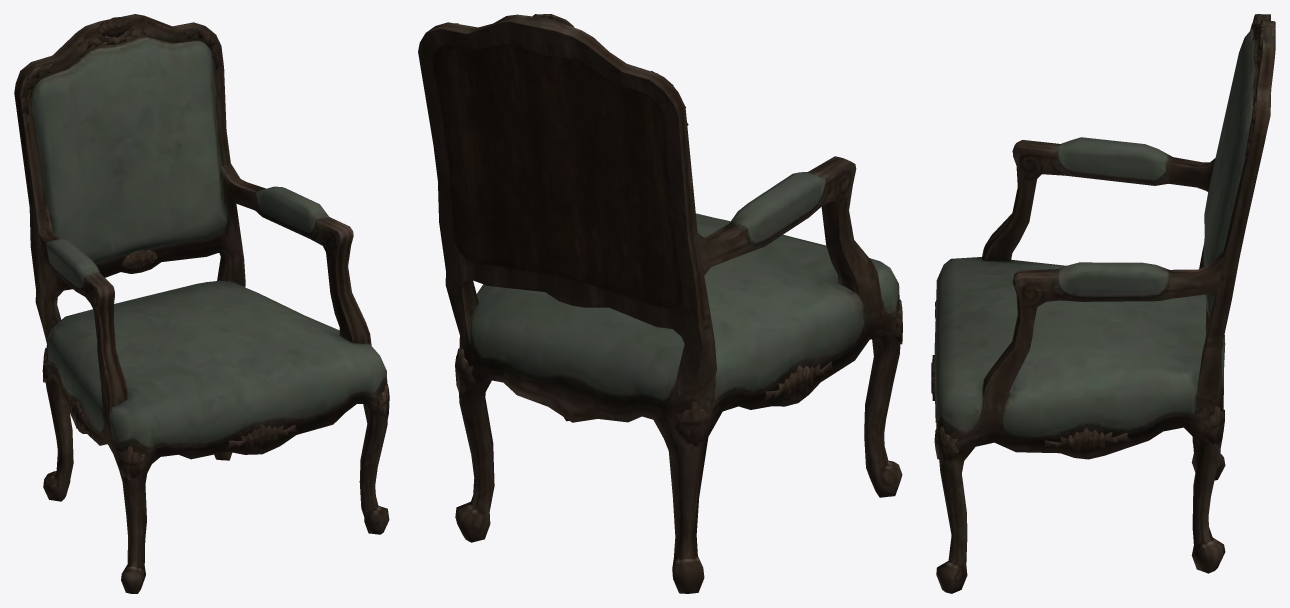
File: greenchair_01.glb
3 renders of one model, left to right at view 1: azimuth 30°, elevation 25°; view 2: azimuth 150°, elevation 25°; view 3: azimuth 270°, elevation 25°, orthographic. The views are drawn at different scales.
Parts seen in each view (by area): view 1: GreenChair_01; view 2: GreenChair_01; view 3: GreenChair_01.
Boxes of the visible parts, x1,y1,x2,y2 form: GreenChair_01: [14, 14, 389, 593]; GreenChair_01: [418, 14, 902, 593]; GreenChair_01: [931, 14, 1275, 593].
Size of the model in its own units: 0.6723 by 1.06 by 0.6644.
Materials: 1 (1 with a texture image).
